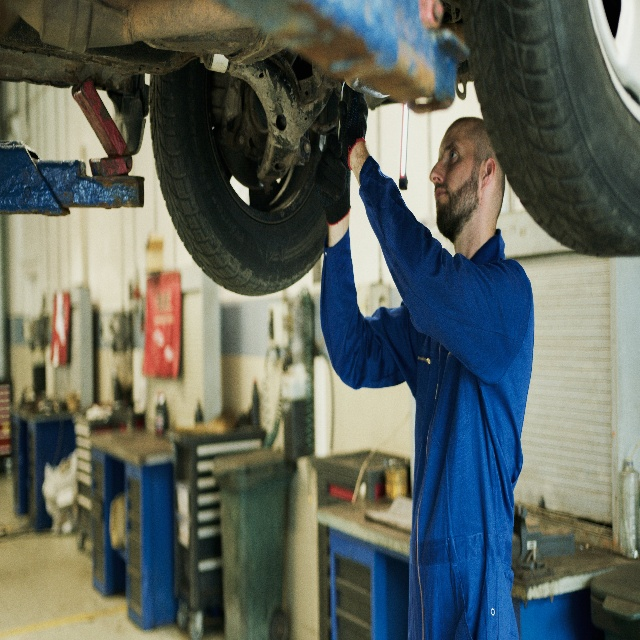Guantes: (314, 133, 351, 226), (339, 86, 369, 171)
